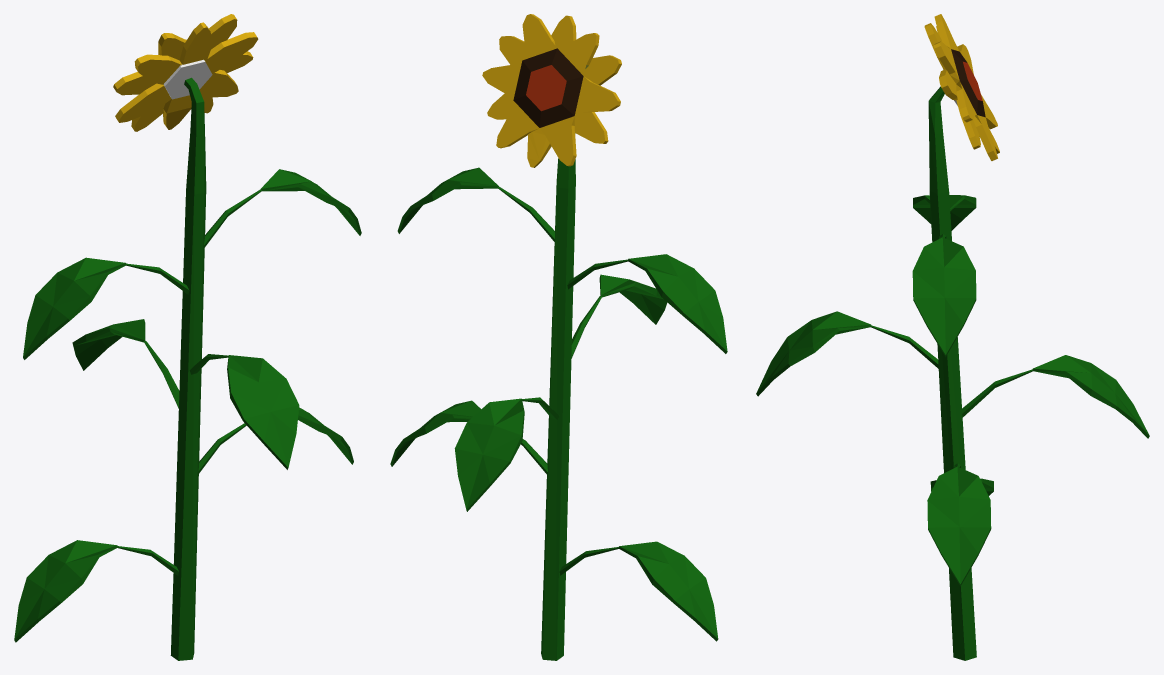
Rendered from Sunflower01.fbx.
The picture shows the model from 3 angles, left to right: view 1: azimuth 30°, elevation 25°; view 2: azimuth 150°, elevation 25°; view 3: azimuth 270°, elevation 25°; orthographic projection. The views are drawn at different scales.
Visible parts, largest first — view 1: Cylinder010, Cylinder015; view 2: Cylinder010; view 3: Cylinder010.
Part boxes in pixels (<box>): Cylinder010: <box>14,14,361,660</box>; Cylinder015: <box>163,59,212,99</box>; Cylinder010: <box>390,14,727,660</box>; Cylinder010: <box>756,14,1149,660</box>.
Size of the model in its own units: 131 by 239 by 135.
